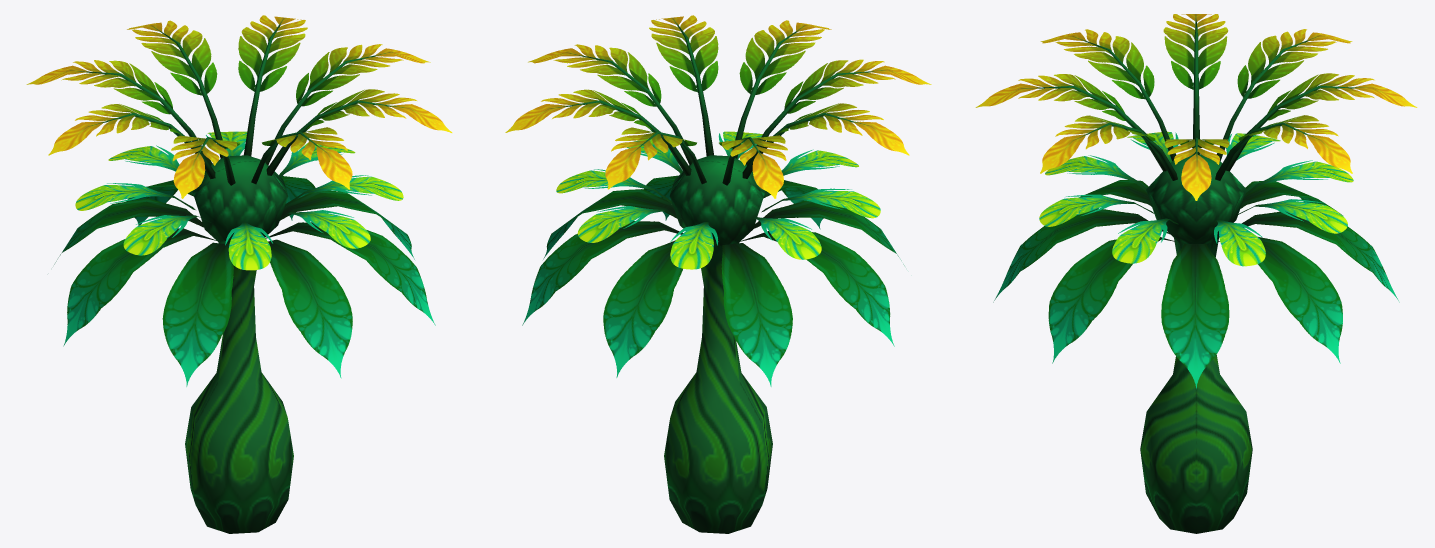
The model's file is Green_Tree_01c.FBX.
The picture shows the model from 3 angles, left to right: view 1: azimuth 30°, elevation 25°; view 2: azimuth 150°, elevation 25°; view 3: azimuth 270°, elevation 25°; orthographic projection.
Visible parts, largest first — view 1: Green_Tree_01c; view 2: Green_Tree_01c; view 3: Green_Tree_01c.
Part boxes in pixels (bbox=[...]): Green_Tree_01c: bbox=[26, 15, 452, 533]; Green_Tree_01c: bbox=[505, 15, 931, 533]; Green_Tree_01c: bbox=[975, 14, 1417, 533].
Bounding box in the file's own units: 183 × 195 × 183.
